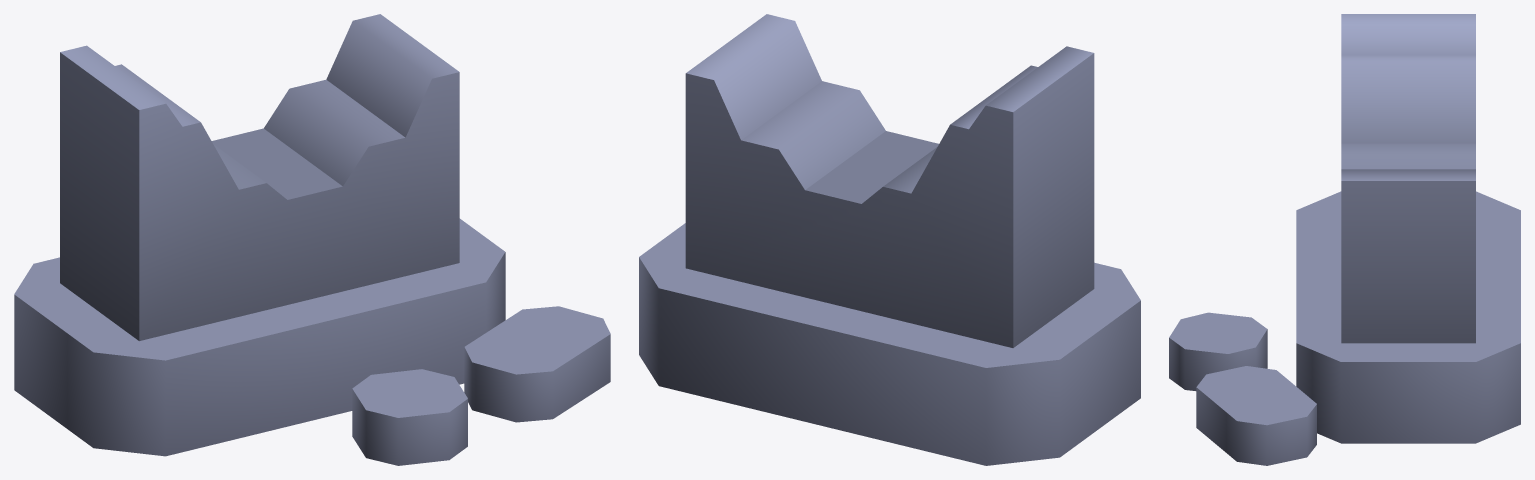
File: K_gravestone-broken.glb
The picture shows the model from 3 angles, left to right: view 1: azimuth 30°, elevation 25°; view 2: azimuth 150°, elevation 25°; view 3: azimuth 270°, elevation 25°; orthographic projection. The views are drawn at different scales.
Parts seen in each view (by area): view 1: gravestone-broken; view 2: gravestone-broken; view 3: gravestone-broken.
Part boxes in pixels (<box>): gravestone-broken: <box>14,14,610,465</box>; gravestone-broken: <box>639,14,1140,465</box>; gravestone-broken: <box>1169,14,1520,465</box>.
Bounding box in the file's own units: 0.509 × 0.3411 × 0.3916.
